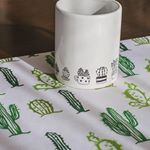cups: (51, 1, 127, 91)
